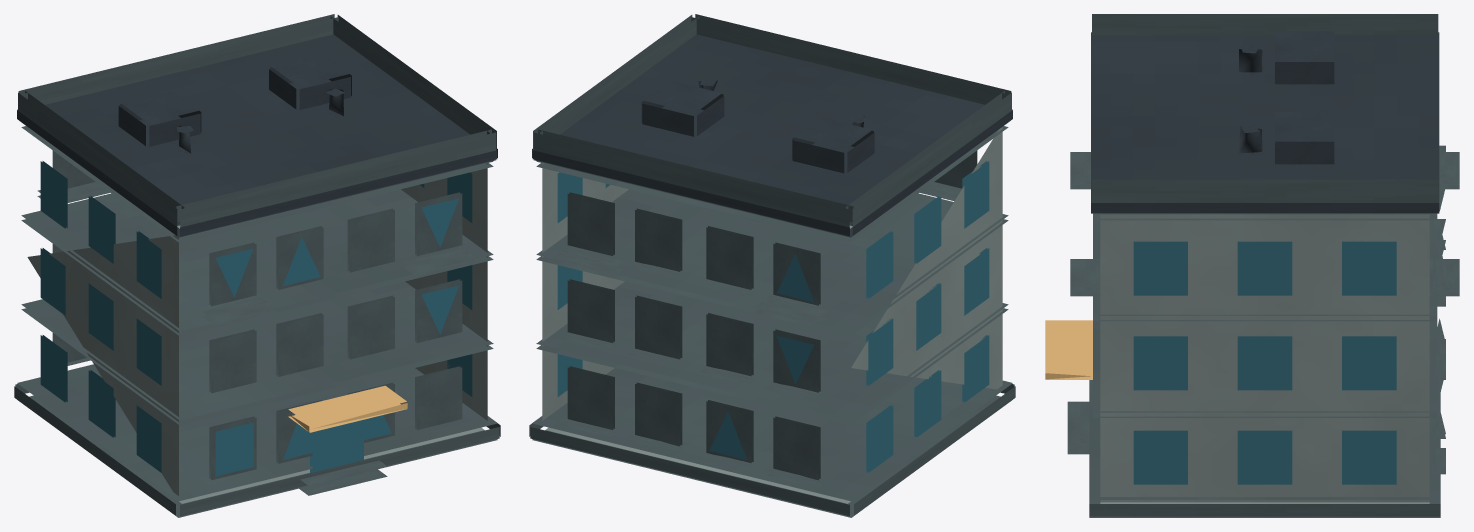
Rendered from cityblock.glb.
3 renders of one model, left to right at view 1: azimuth 30°, elevation 25°; view 2: azimuth 150°, elevation 25°; view 3: azimuth 270°, elevation 25°, orthographic. The views are drawn at different scales.
Parts seen in each view (by area): view 1: Surface CityConcrete, Surface CityRoof, Surface CityWindow, Surface CityPlaster, Surface CityOchre; view 2: Surface CityConcrete, Surface CityRoof, Surface CityPlaster, Surface CityWindow; view 3: Surface CityPlaster, Surface CityRoof, Surface CityConcrete, Surface CityWindow, Surface CityOchre.
Boxes of the visible parts, left/top/right/bottom form: Surface CityConcrete: left=14, top=14, right=500, bottom=517; Surface CityRoof: left=17, top=34, right=497, bottom=237; Surface CityWindow: left=40, top=161, right=472, bottom=484; Surface CityPlaster: left=27, top=163, right=487, bottom=503; Surface CityOchre: left=288, top=385, right=407, bottom=432; Surface CityConcrete: left=529, top=14, right=1015, bottom=517; Surface CityRoof: left=532, top=34, right=1012, bottom=237; Surface CityPlaster: left=542, top=127, right=1002, bottom=503; Surface CityWindow: left=557, top=161, right=989, bottom=472; Surface CityPlaster: left=1100, top=214, right=1429, bottom=503; Surface CityRoof: left=1091, top=31, right=1439, bottom=500; Surface CityConcrete: left=1067, top=14, right=1459, bottom=517; Surface CityWindow: left=1133, top=241, right=1396, bottom=484; Surface CityOchre: left=1045, top=320, right=1092, bottom=379.
Size of the model in its own units: 8.2 by 7.7 by 8.37.
Materials: 5 (3 with a texture image).
